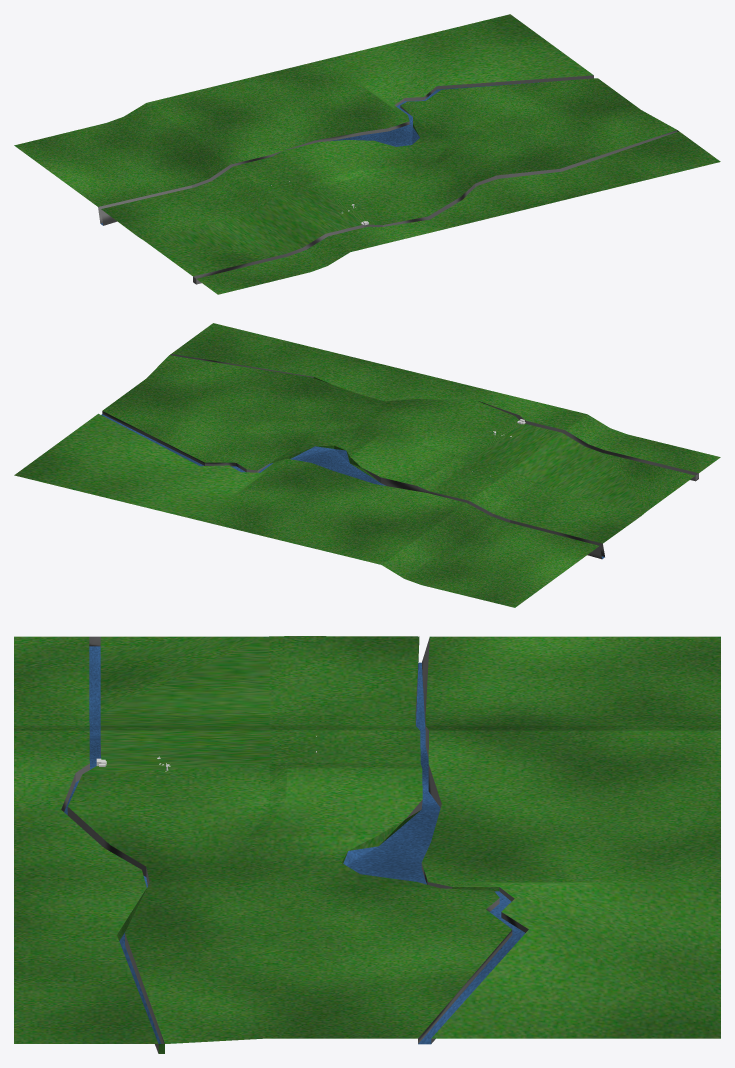
Rendered from ground.dae.
3 views of the same model, one above another, from view 1: azimuth 30°, elevation 25°; view 2: azimuth 150°, elevation 25°; view 3: azimuth 270°, elevation 25° (orthographic). The views are drawn at different scales.
Parts seen in each view (by area): view 1: ground; view 2: ground; view 3: ground.
Boxes of the visible parts, x1=… form: ground: x1=14, y1=14, x2=720, y2=294; ground: x1=14, y1=323, x2=720, y2=607; ground: x1=14, y1=636, x2=720, y2=1053.
Bounding box in the file's own units: 69.82 × 48.99 × 3.91.
